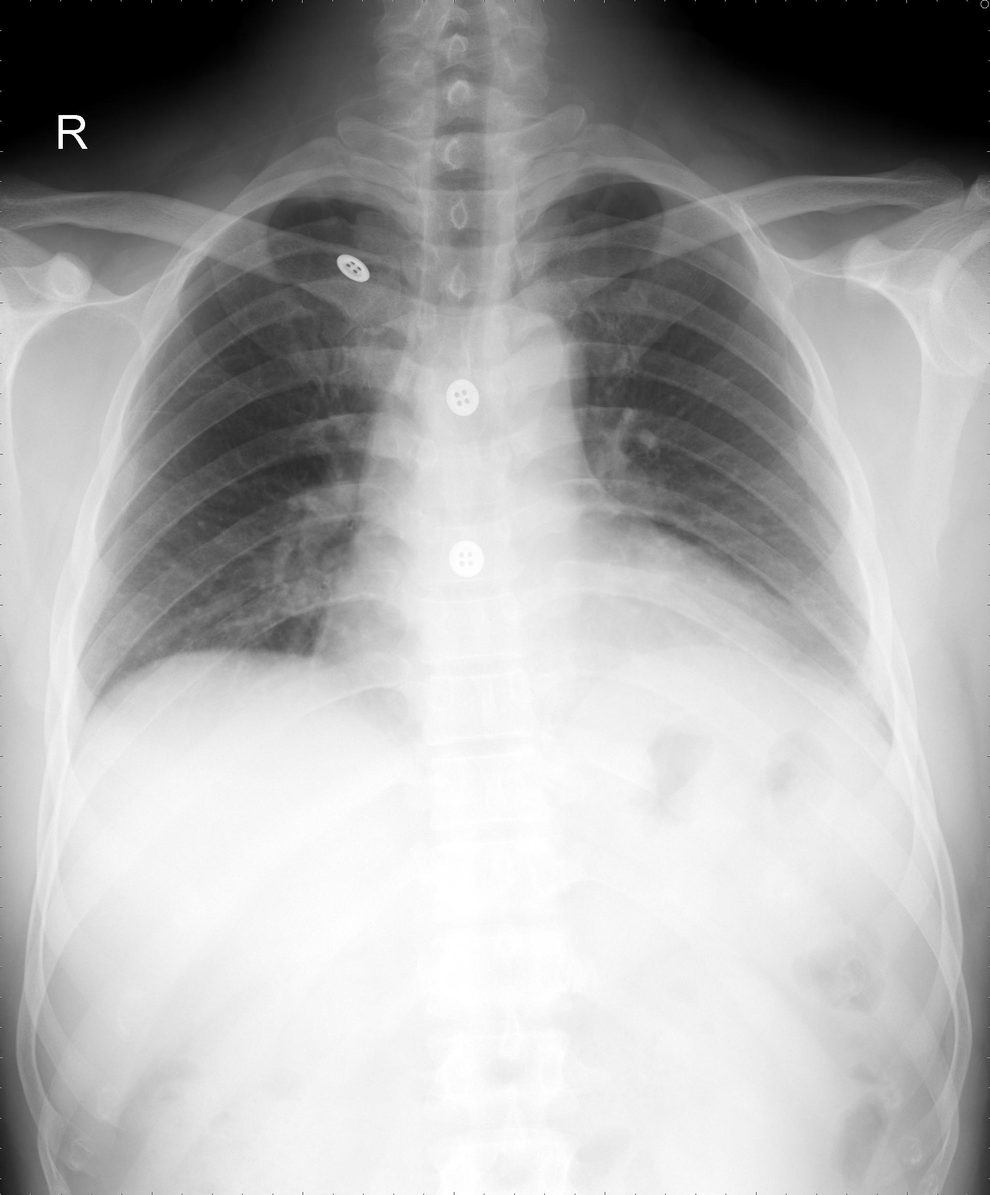Cardiomegaly: (307, 554, 801, 719)
